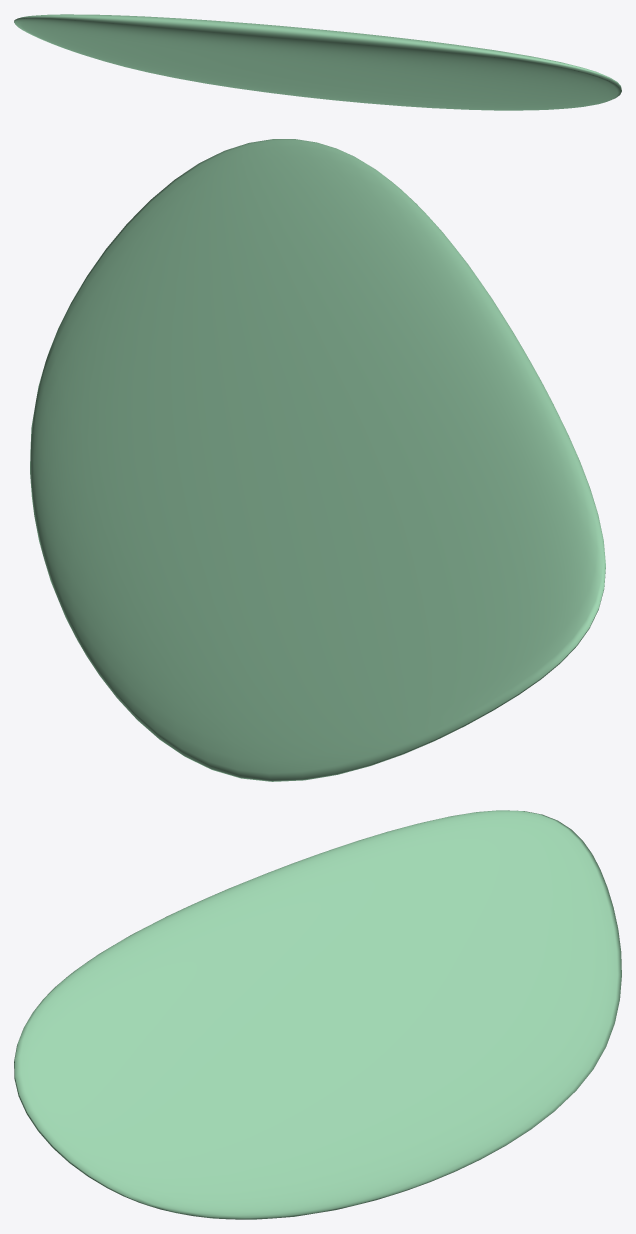
The picture shows the model from 3 angles, top to bottom: view 1: azimuth 30°, elevation 25°; view 2: azimuth 150°, elevation 25°; view 3: azimuth 270°, elevation 25°; orthographic projection. The views are drawn at different scales.
Visible parts, largest first — view 1: SE_CF; view 2: SE_CF; view 3: SE_CF.
Boxes of the visible parts, box(x1,y1,x2,y2) form: SE_CF: box(14, 14, 621, 110); SE_CF: box(30, 139, 605, 781); SE_CF: box(14, 810, 621, 1219).
Size of the model in its own units: 3.86 by 1.35 by 3.53.
